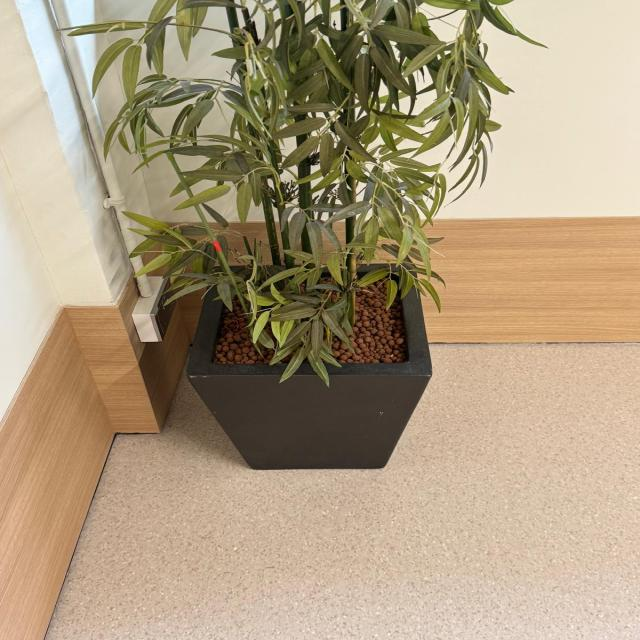Pot: (184, 259, 433, 469)
